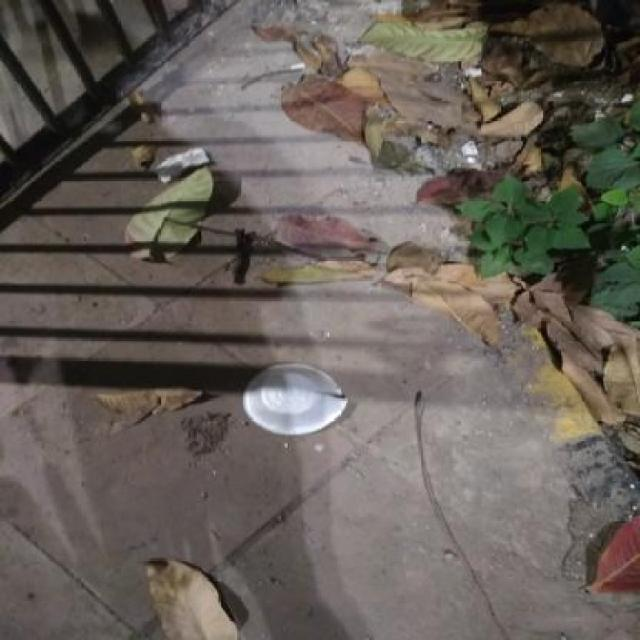garbage: (260, 22, 639, 333), (149, 339, 584, 486), (105, 89, 242, 300), (106, 542, 273, 640), (513, 495, 640, 608), (54, 378, 233, 446)
